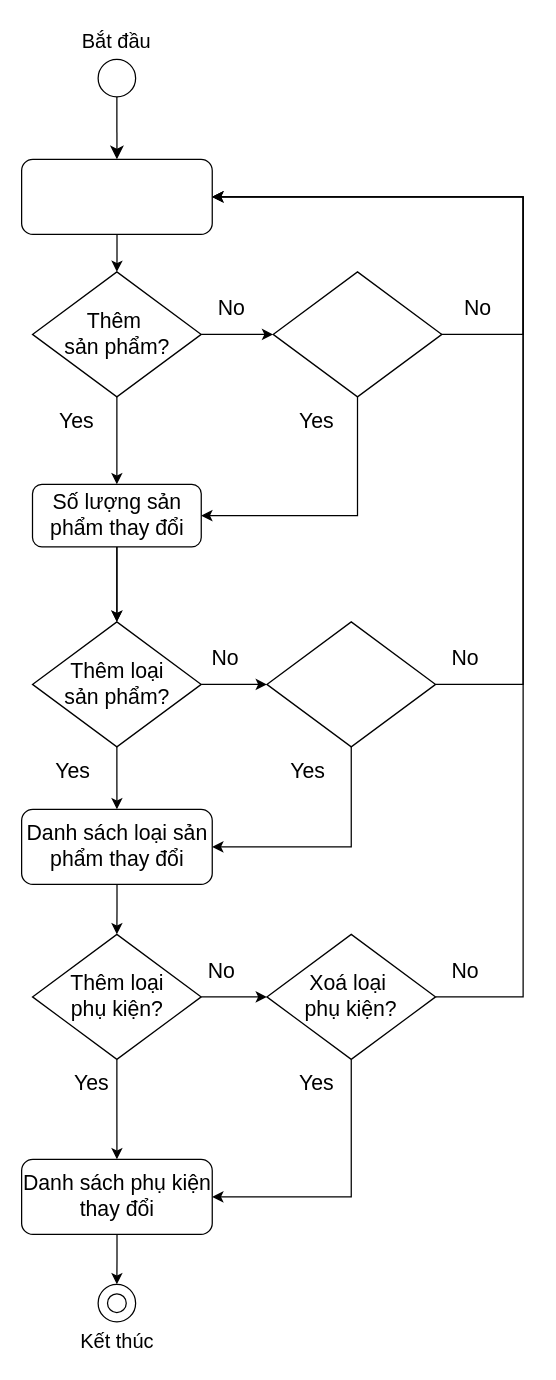
This 556x1380 diagram has some shape labels left out. The centre of each missing label's shape, as x and y in pixels:
Giám sát tình hình kho: [116,196]
Xoá loại sản phẩm?: [351,684]
Xoá sản phẩm?: [357,334]
